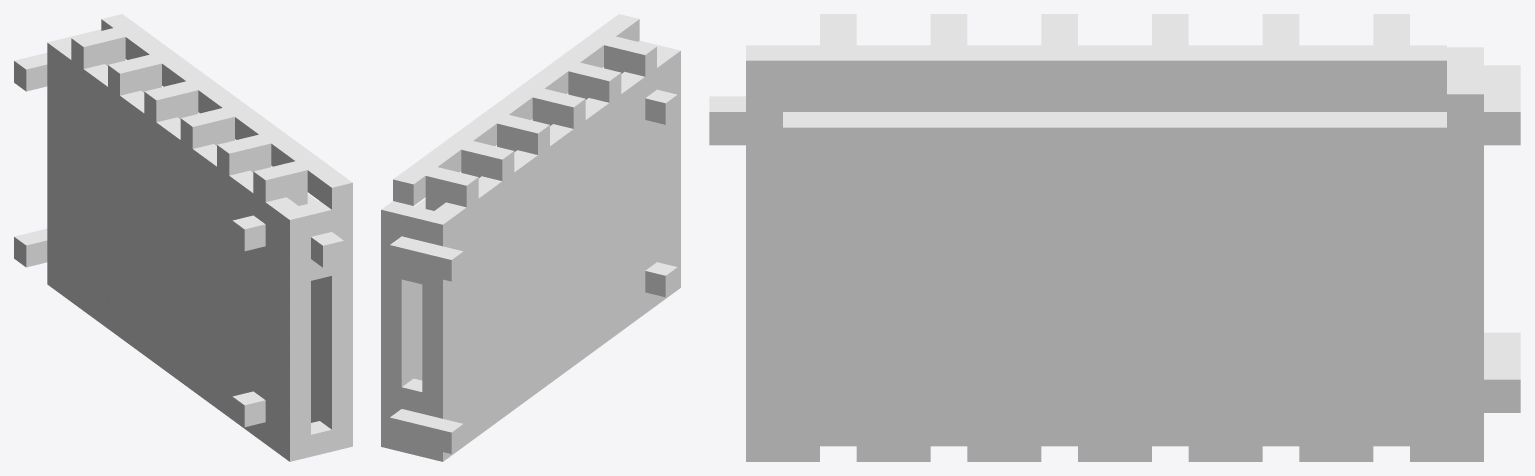
Rendered from Radiator.gltf.
3 views of the same model, side by side, from view 1: azimuth 30°, elevation 25°; view 2: azimuth 150°, elevation 25°; view 3: azimuth 270°, elevation 25° (orthographic). The views are drawn at different scales.
Bounding box in the file's own units: 4 × 12 × 22.
Materials: 1 (1 with a texture image).
